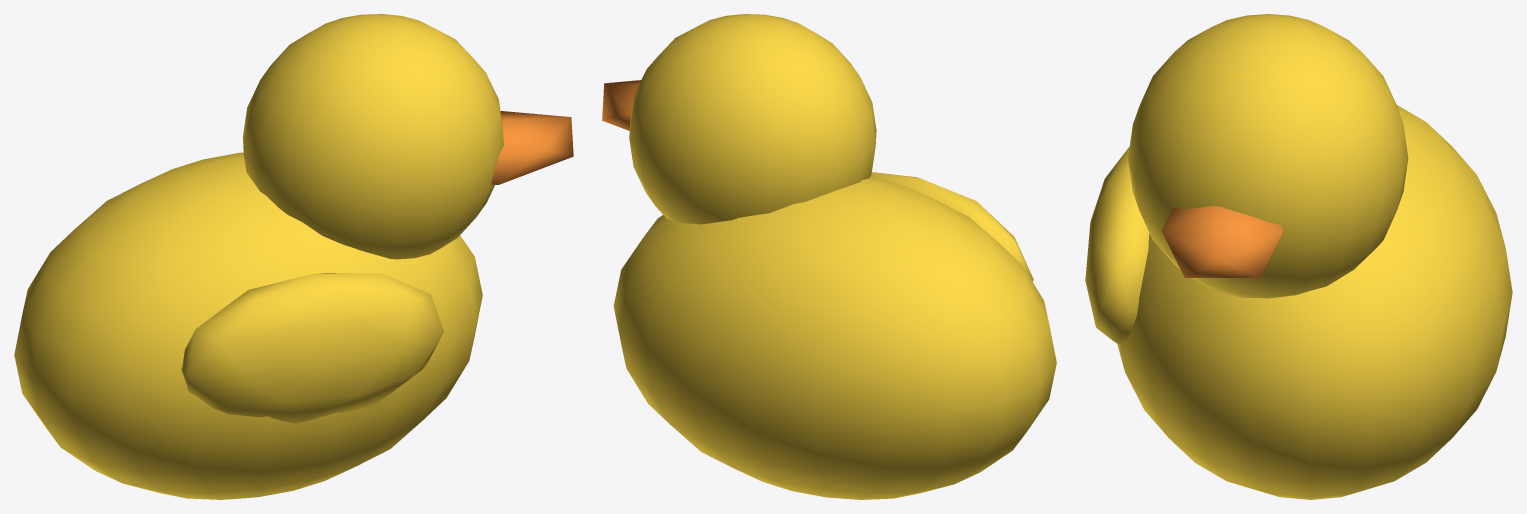
The model's file is duck.glb.
3 views of the same model, side by side, from view 1: azimuth 30°, elevation 25°; view 2: azimuth 150°, elevation 25°; view 3: azimuth 270°, elevation 25° (orthographic). The views are drawn at different scales.
Parts seen in each view (by area): view 1: duck; view 2: duck; view 3: duck.
Part boxes in pixels (x1=…): duck: x1=14, y1=14, x2=573, y2=499; duck: x1=602, y1=14, x2=1056, y2=499; duck: x1=1085, y1=14, x2=1512, y2=499.
Size of the model in its own units: 1 by 0.8417 by 0.6608.
